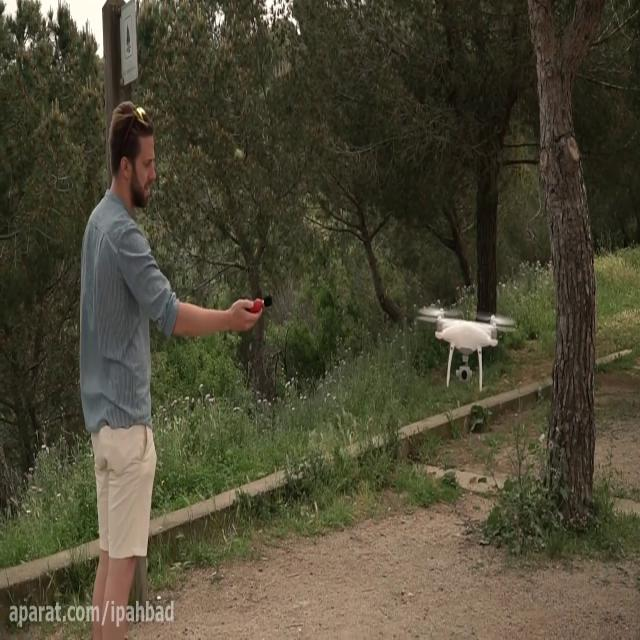drone: (413, 297, 521, 386)
